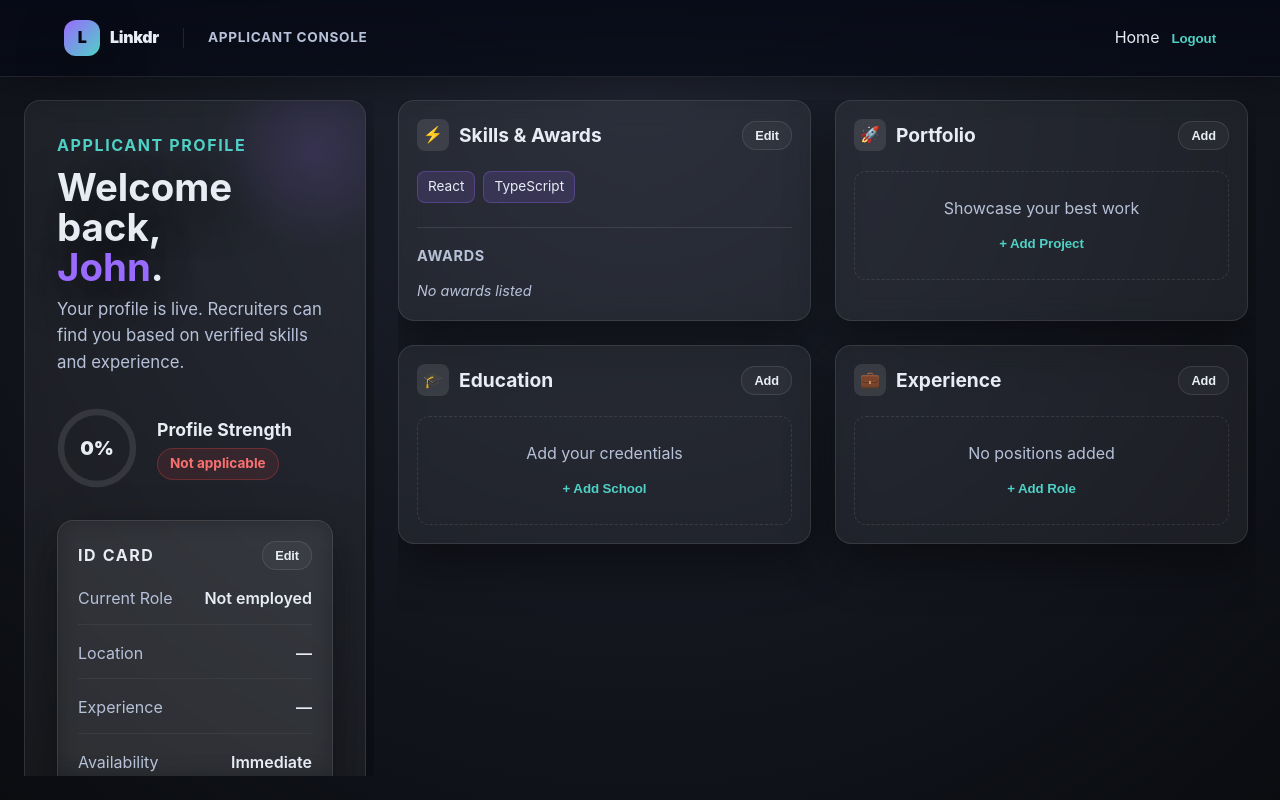
it: ApplicantFormPage › populates form with fetched data
The width and height of the screenshot is (1280, 800).
# Open Core Profile editor
Click the button "Edit" next to "ID Card". click: click(287, 556)
box: [262,541,312,570]
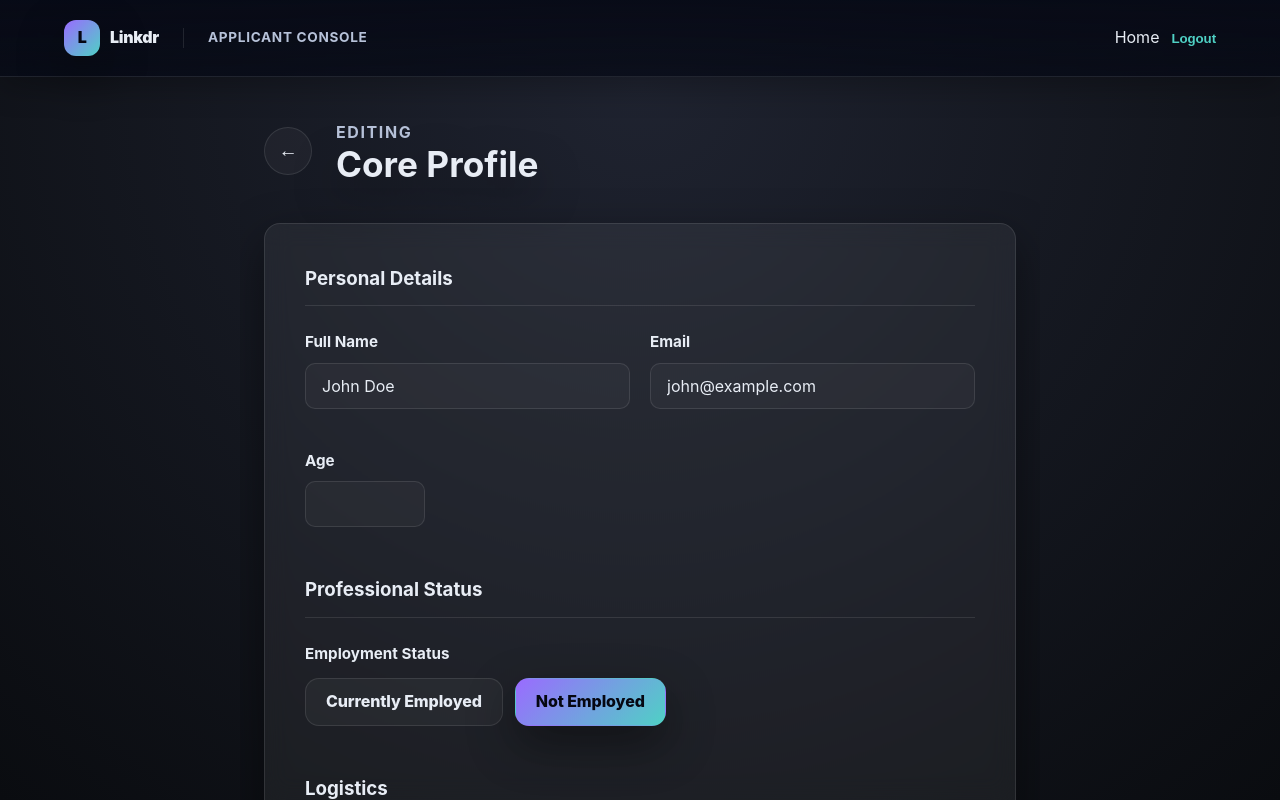
Check: the field showing "John Doe" below "Full Name" is shown, box [305,363,630,409]
Check: the field showing "john@example.com" below "Email" is shown, box [650,363,975,409]
